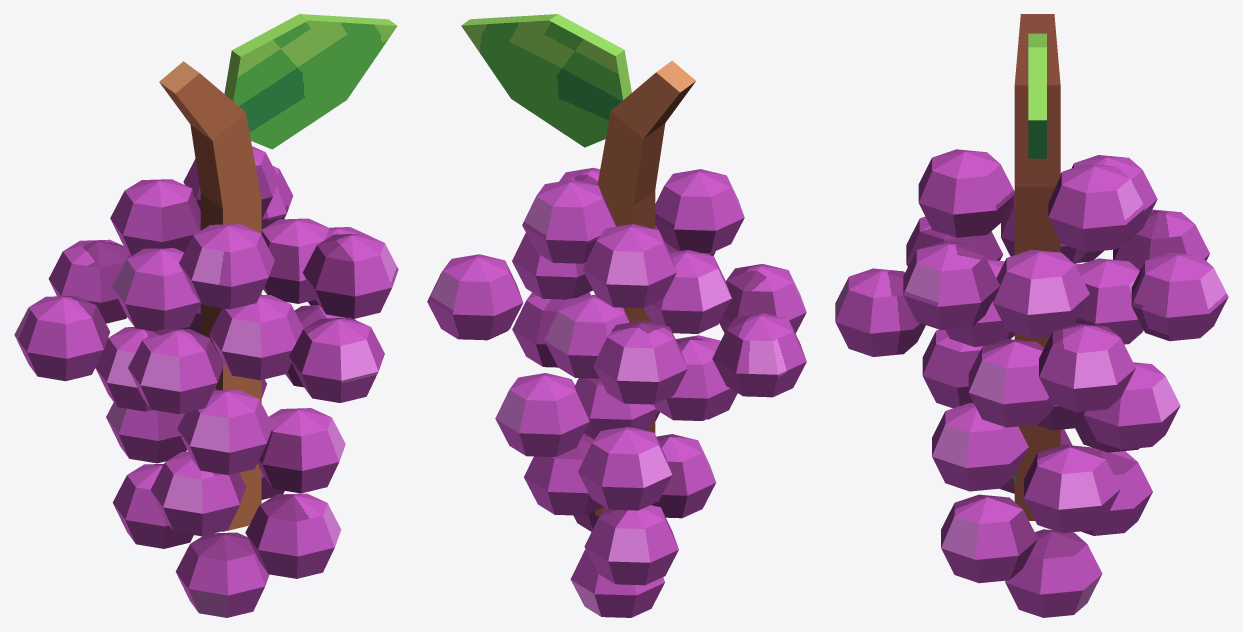
The model's file is grapes.fbx.
3 views of the same model, side by side, from view 1: azimuth 30°, elevation 25°; view 2: azimuth 150°, elevation 25°; view 3: azimuth 270°, elevation 25° (orthographic). The views are drawn at different scales.
Visible parts, largest first — view 1: sphere; view 2: sphere; view 3: sphere.
Boxes of the visible parts, x1,y1,x2,y2 form: sphere: [14, 14, 398, 617]; sphere: [427, 14, 806, 617]; sphere: [835, 14, 1228, 617].
Size of the model in its own units: 88.28 by 135 by 79.65.
1 material, 1 textured.
